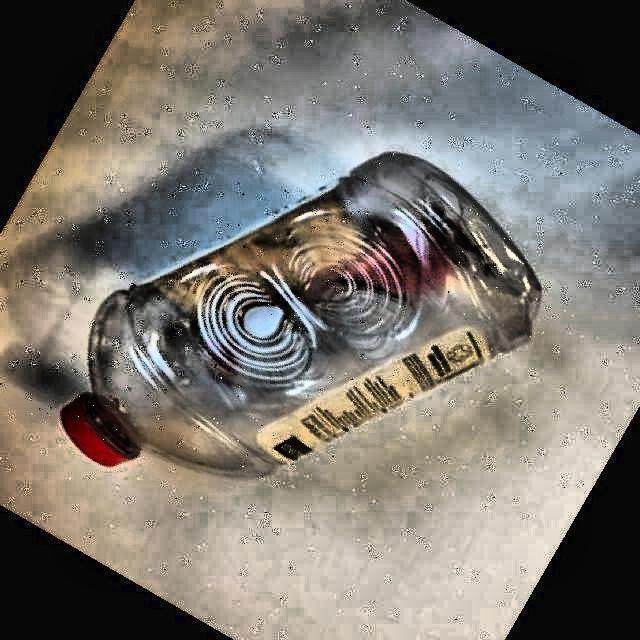plastic: (61, 154, 541, 474)
